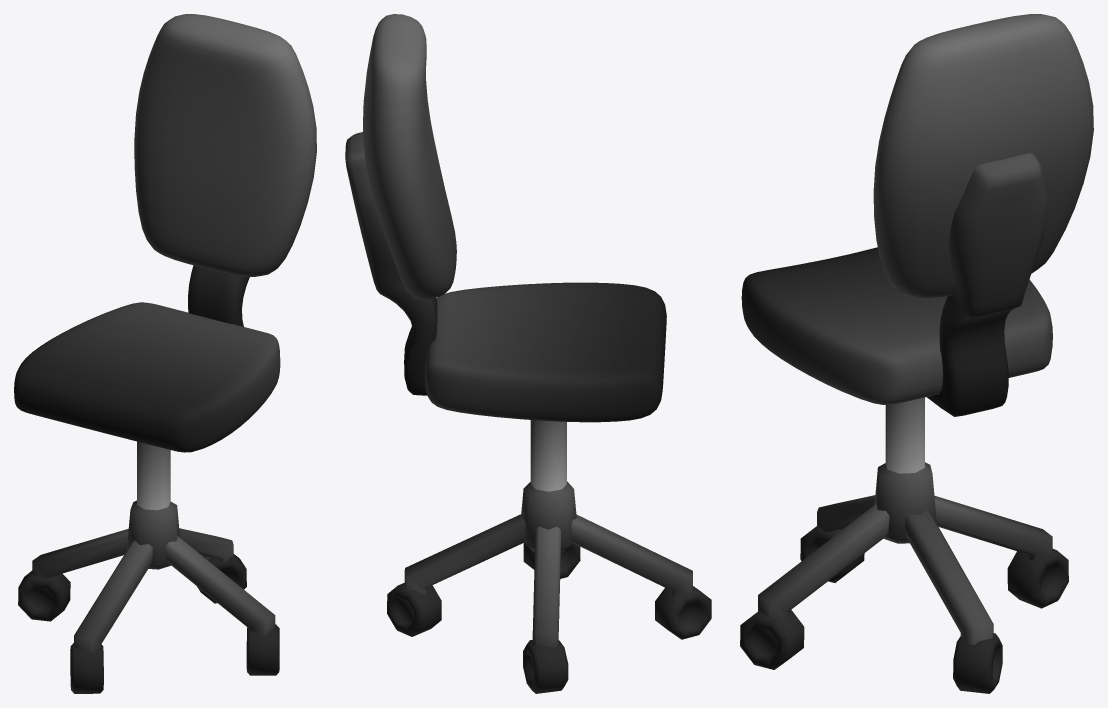
The model's file is chair_004.fbx.
3 renders of one model, left to right at view 1: azimuth 30°, elevation 25°; view 2: azimuth 150°, elevation 25°; view 3: azimuth 270°, elevation 25°, orthographic. The views are drawn at different scales.
Parts seen in each view (by area): view 1: chair_004; view 2: chair_004; view 3: chair_004.
Boxes of the visible parts, bbox=[...] form: chair_004: bbox=[14, 14, 316, 693]; chair_004: bbox=[345, 14, 711, 693]; chair_004: bbox=[740, 14, 1093, 693].
Size of the model in its own units: 50.48 by 96.67 by 46.35.
